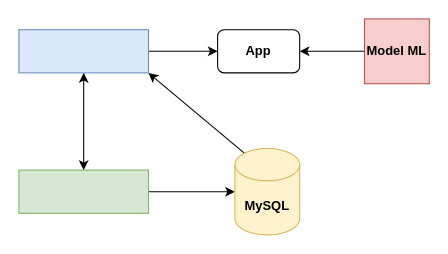
Some shapes in this 448 by 254 pixel diagram are drawn without their labels. Each missing label, with the box of its shape:
Đăng ký: (18, 169, 148, 213)
Đăng nhập: (18, 29, 148, 73)
